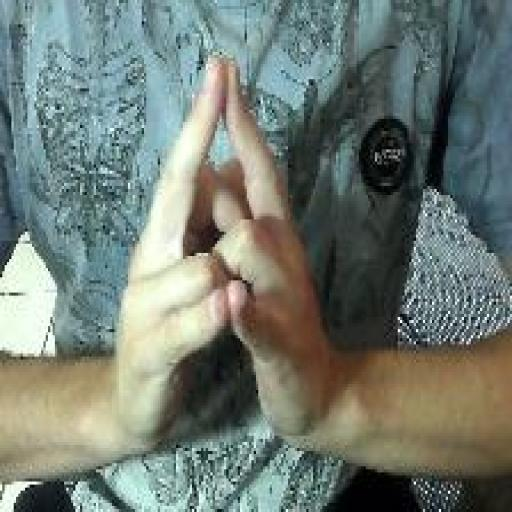Tori -bird-: (113, 50, 335, 456)
